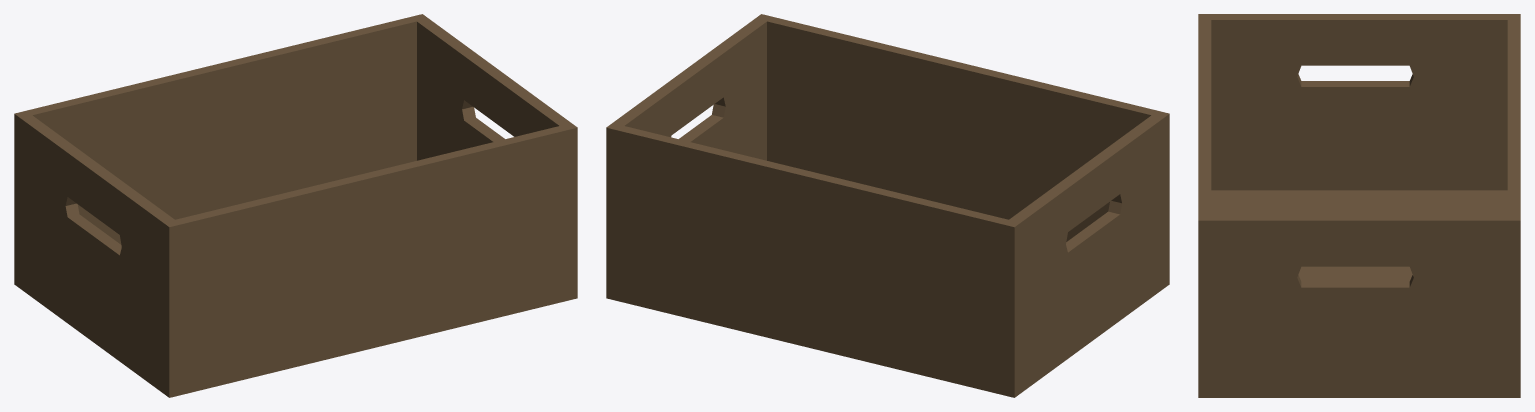
File: Crate_2.fbx
3 views of the same model, side by side, from view 1: azimuth 30°, elevation 25°; view 2: azimuth 150°, elevation 25°; view 3: azimuth 270°, elevation 25° (orthographic). The views are drawn at different scales.
Visible parts, largest first — view 1: polySurface1865; view 2: polySurface1865; view 3: polySurface1865.
Boxes of the visible parts, x1,y1,x2,y2 form: polySurface1865: (14,14,577,397); polySurface1865: (606,14,1169,397); polySurface1865: (1198,14,1520,397).
Size of the model in its own units: 72.85 by 29.1 by 47.97.
